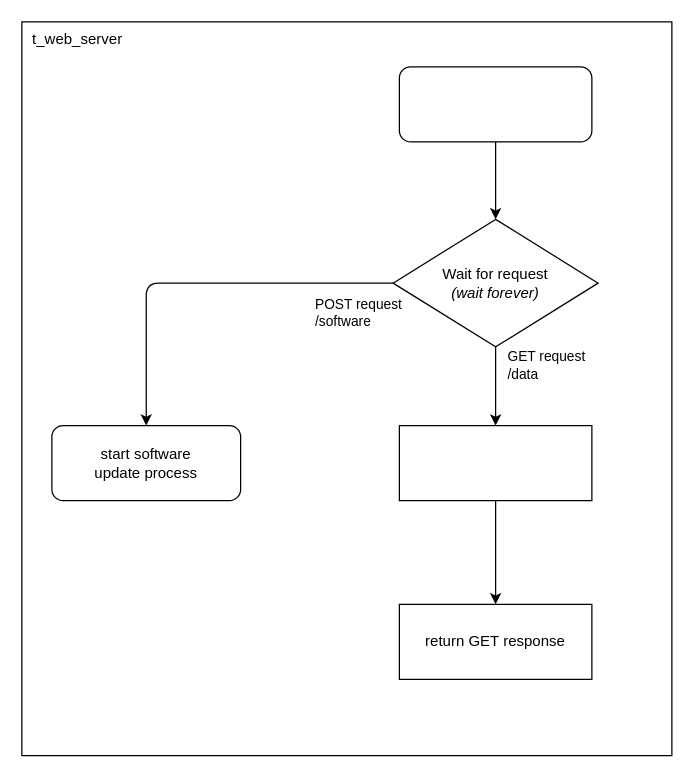
The diagram is 694 pixels wide and 778 high, and some of its shapes have lost their labels. Here are the shapes that lost their labels. From the top down, the box of each, then its label:
(398, 66, 592, 142): start web server
(398, 424, 592, 501): prepare frame parse data, ...
